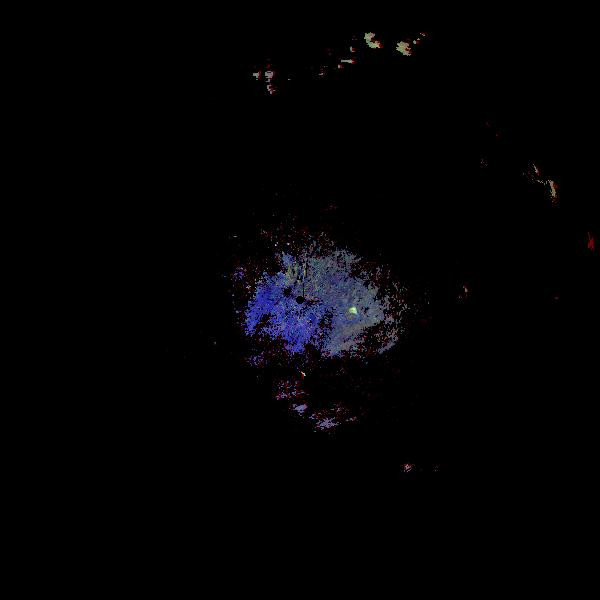roost: (299, 370, 311, 382), (350, 306, 359, 315)
